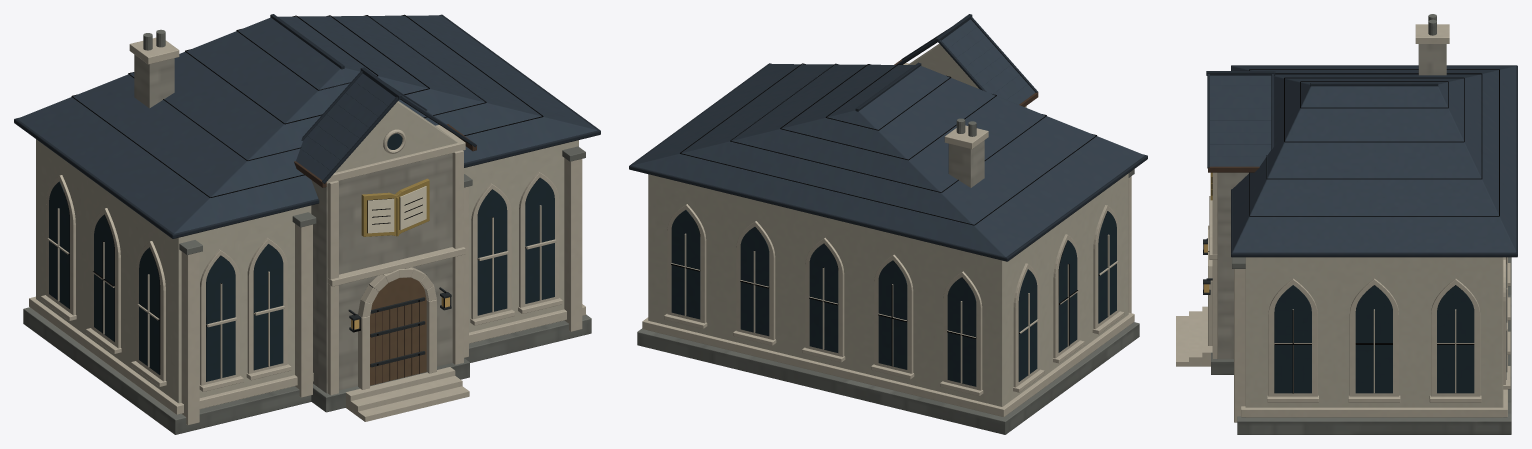
The model's file is Library.fbx.
The picture shows the model from 3 angles, left to right: view 1: azimuth 30°, elevation 25°; view 2: azimuth 150°, elevation 25°; view 3: azimuth 270°, elevation 25°; orthographic projection. The views are drawn at different scales.
Parts seen in each view (by area): view 1: Library.001; view 2: Library.001; view 3: Library.001.
Part boxes in pixels (bbox=[...]): Library.001: bbox=[14, 14, 600, 434]; Library.001: bbox=[629, 14, 1147, 434]; Library.001: bbox=[1176, 14, 1517, 434].
Bounding box in the file's own units: 14.56 × 9.79 × 11.15.
